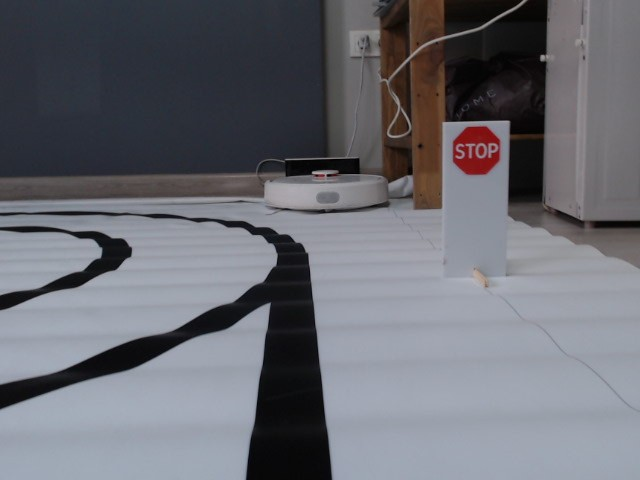Stop: (449, 126, 501, 178)
